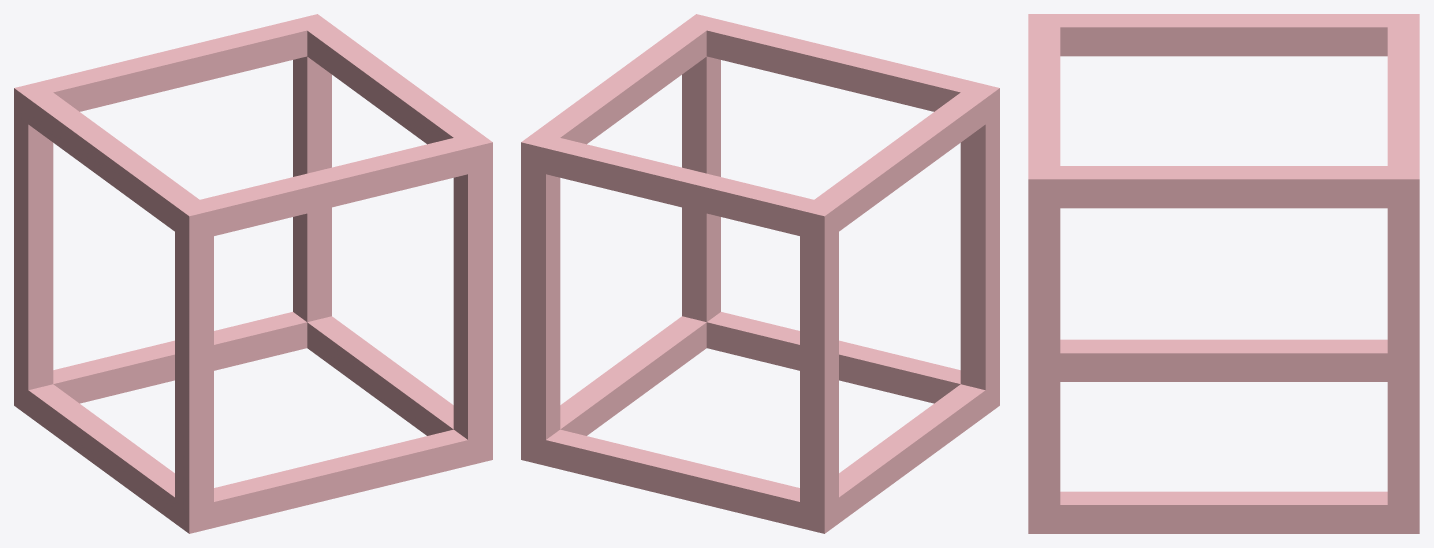
File: toggleblock_off_off.obj
3 views of the same model, side by side, from view 1: azimuth 30°, elevation 25°; view 2: azimuth 150°, elevation 25°; view 3: azimuth 270°, elevation 25° (orthographic). The views are drawn at different scales.
Visible parts, largest first — view 1: Cube; view 2: Cube; view 3: Cube.
Boxes of the visible parts, x1,y1,x2,y2 form: Cube: (14,14,492,533); Cube: (521,14,999,533); Cube: (1028,14,1419,533).
Bounding box in the file's own units: 1 × 1 × 1.
Materials: 1 (1 with a texture image).
